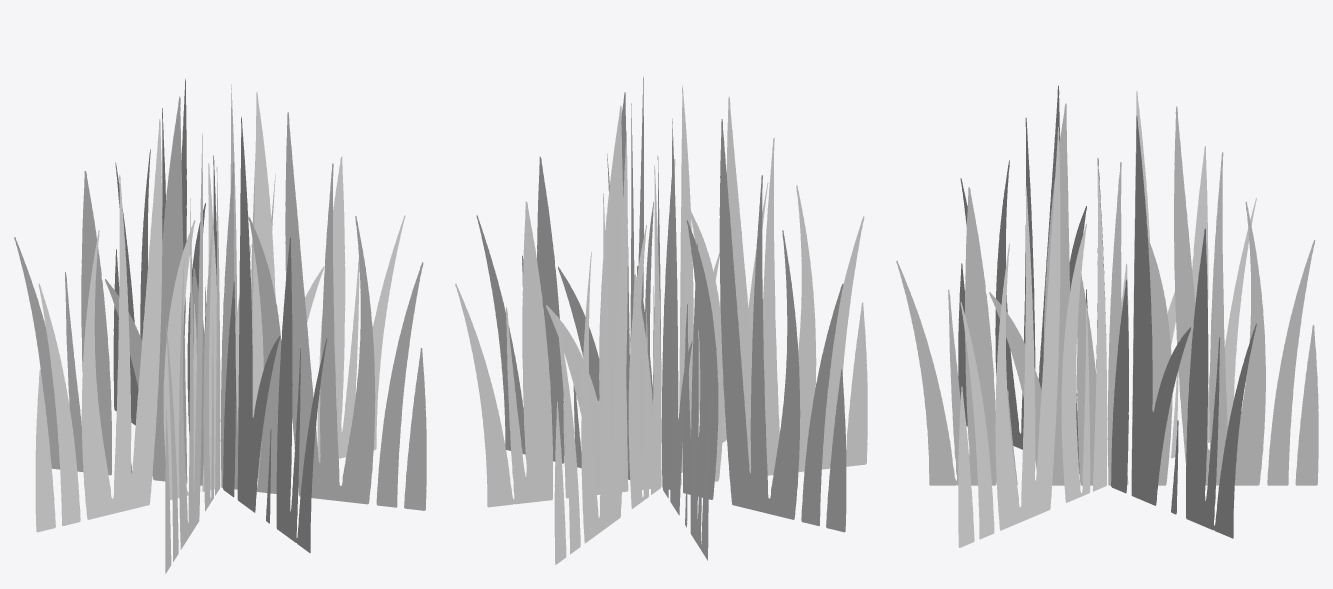
The model's file is Grass_test_01.fbx.
3 views of the same model, side by side, from view 1: azimuth 30°, elevation 25°; view 2: azimuth 150°, elevation 25°; view 3: azimuth 270°, elevation 25° (orthographic).
Parts seen in each view (by area): view 1: pPlane4, pPlane2, pPlane1, pPlane3; view 2: pPlane3, pPlane2, pPlane1, pPlane4; view 3: pPlane1, pPlane4, pPlane3.
Boxes of the visible parts, x1,y1,x2,y2 form: pPlane4: (14, 96, 426, 510); pPlane2: (35, 92, 405, 532); pPlane1: (113, 79, 327, 552); pPlane3: (165, 84, 275, 573); pPlane3: (455, 96, 867, 507); pPlane2: (476, 92, 846, 532); pPlane1: (554, 86, 768, 564); pPlane4: (607, 76, 716, 560); pPlane1: (896, 103, 1318, 485); pPlane4: (958, 91, 1256, 547); pPlane3: (958, 85, 1256, 538).
Size of the model in its own units: 1 by 1 by 1.
1 material, 1 textured.
